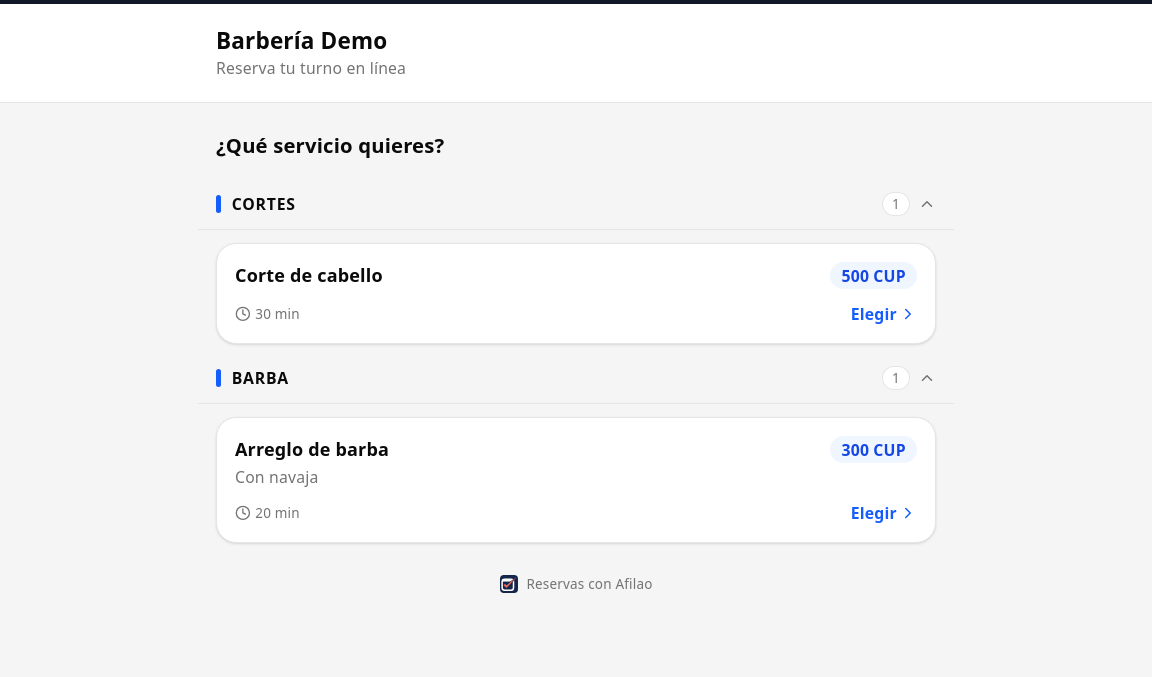
Scenario: Reserva pública › con varios profesionales ofrece elegir, incluida la opción «cualquiera»
Click the button "Corte de cabello 500 CUP 30 min Elegir".
click(309, 275)  # box [216,243,936,344]
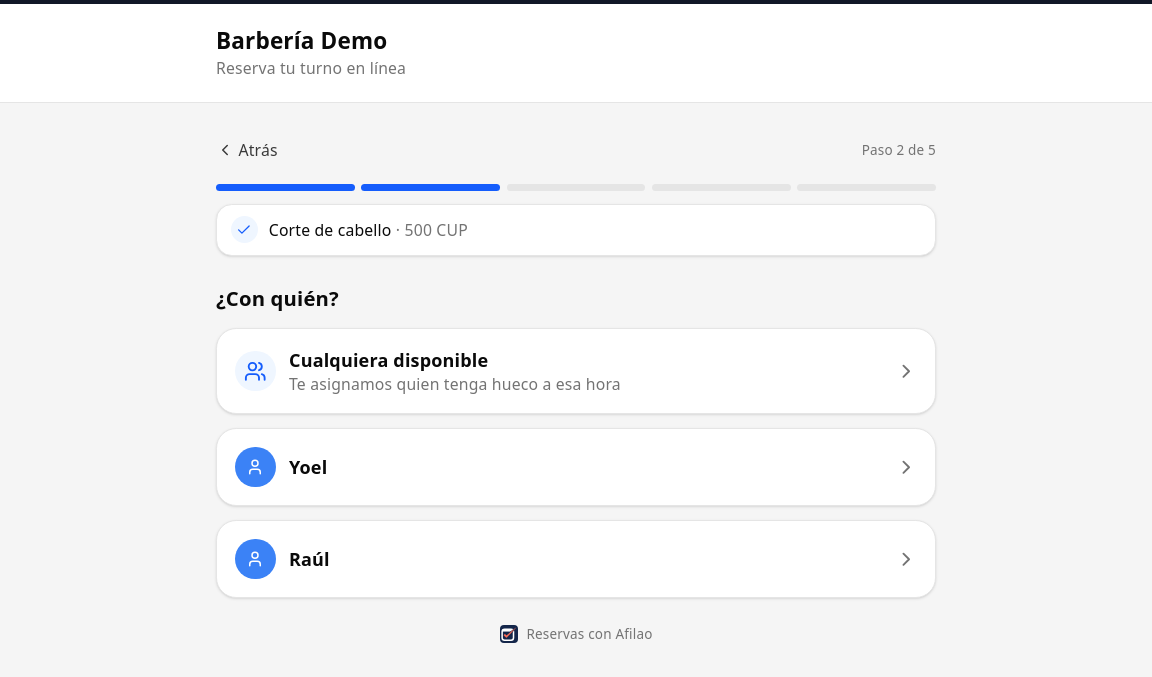
Now the heading "¿Con quién?" is shown, box [216,284,339,312]
Now the button "Yoel" is shown, box [216,428,936,506]
Now the button "Raúl" is shown, box [216,520,936,598]
Click the button "Cualquiera disponible".
click(576, 371)  # box [216,328,936,414]
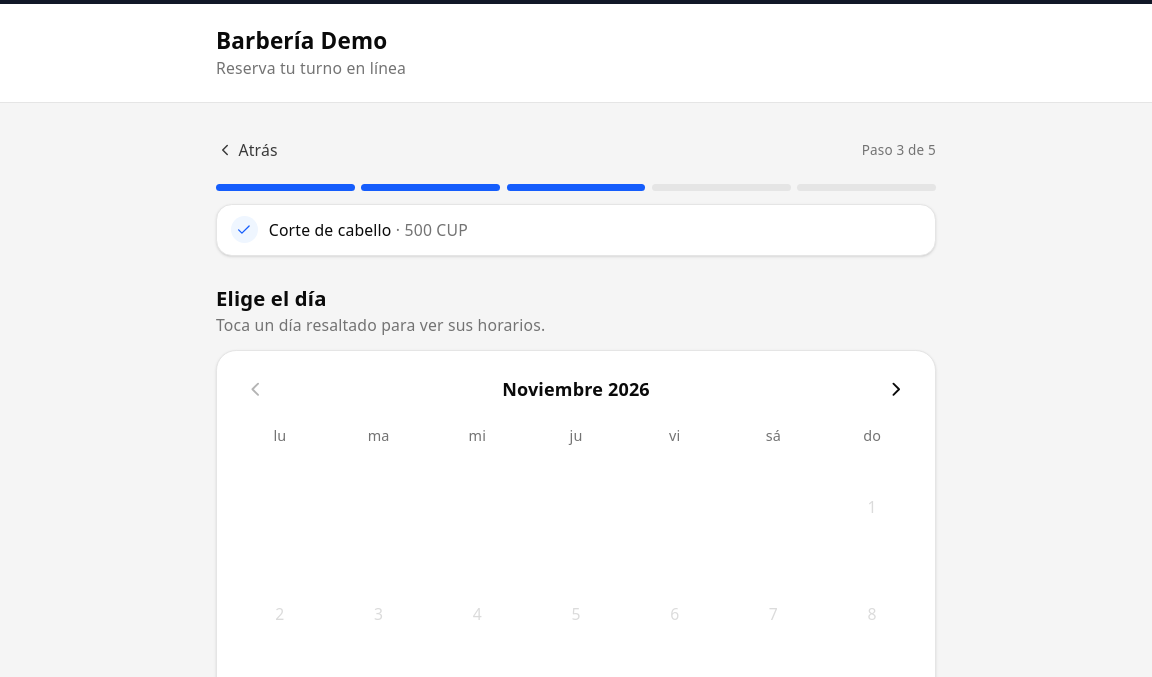
Now the heading "Elige el día" is shown, box [216,284,326,312]
